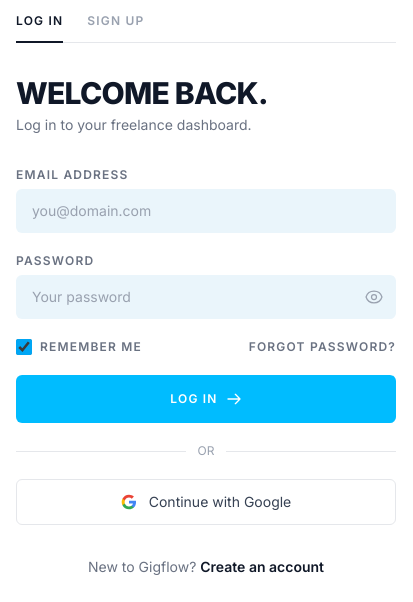
Test: LoginPage Component Tests › shows validation error on malformed email address
This screenshot has width=413, height=602.
Type "notanemail" into the field with placeholder "you@domain.com". click: x=206, y=211
box: [16,189,396,233]
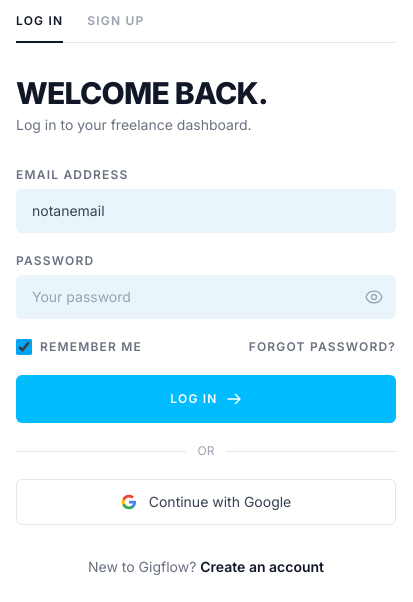
Click the button "LOG IN". click: x=206, y=399
box: [16,375,396,423]
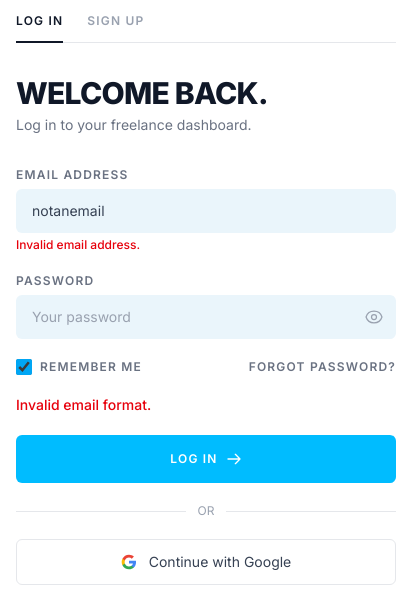
Result: the text "Invalid email address." is shown at [16,237,140,252]
